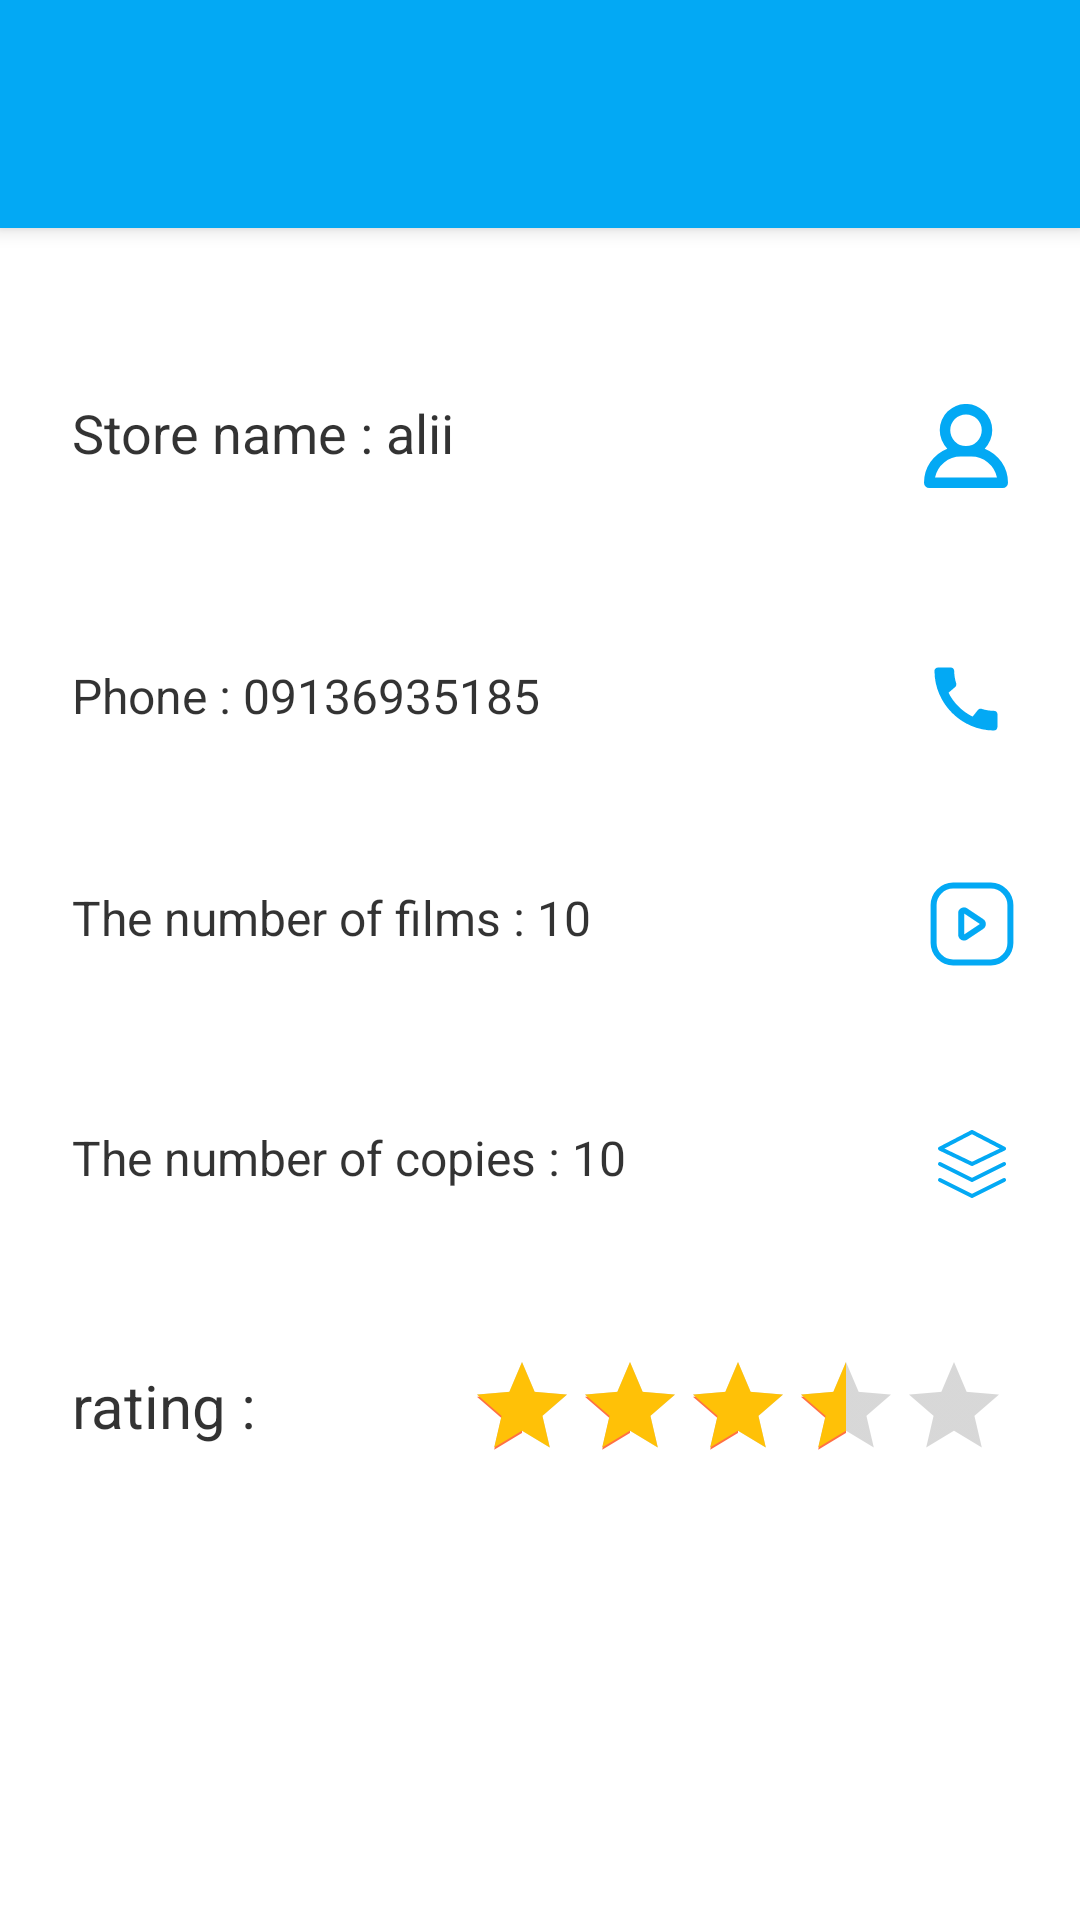

Icon bounding boxes for this 1080px x 1920px phone screenshot, format (x1, y1, x2, y2):
call: (934, 667, 998, 731)
copies: (938, 1130, 1006, 1198)
profile: (924, 404, 1008, 488)
video: (930, 882, 1014, 966)
